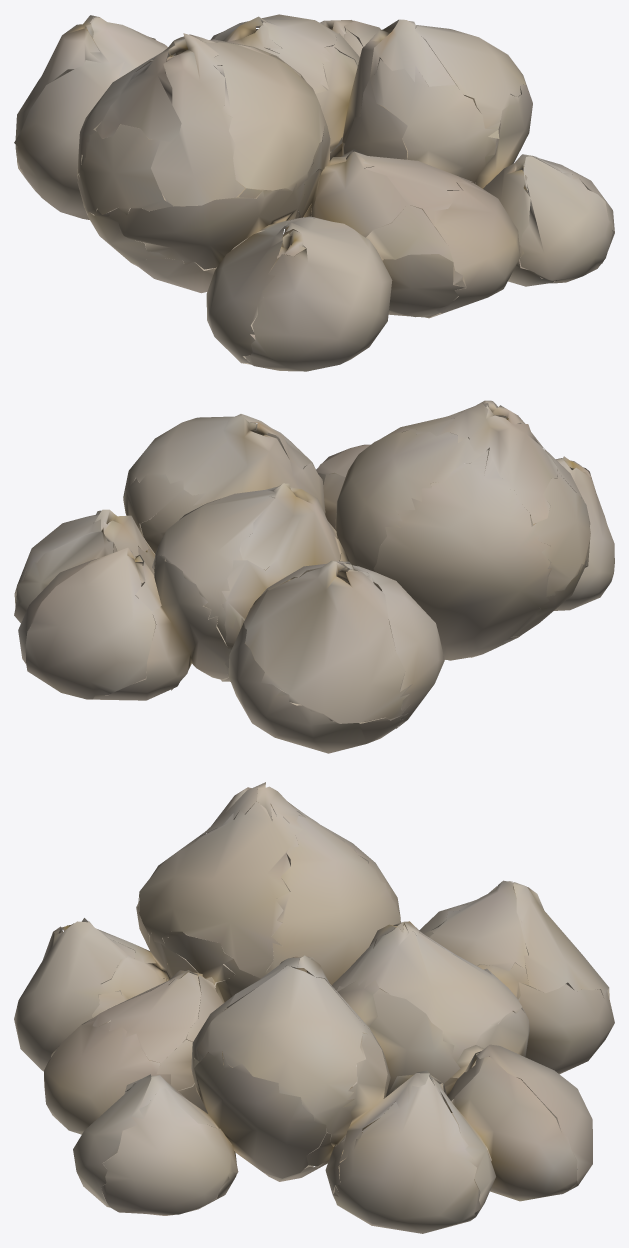
Rendered from triassic-brachiopod-cluster.glb.
3 views of the same model, one above another, from view 1: azimuth 30°, elevation 25°; view 2: azimuth 150°, elevation 25°; view 3: azimuth 270°, elevation 25° (orthographic). The views are drawn at different scales.
Parts seen in each view (by area): view 1: brachiopod-cluster; view 2: brachiopod-cluster; view 3: brachiopod-cluster.
Part boxes in pixels (x1=…): brachiopod-cluster: x1=14, y1=14, x2=614, y2=371; brachiopod-cluster: x1=14, y1=400, x2=614, y2=753; brachiopod-cluster: x1=14, y1=782, x2=614, y2=1233.
Size of the model in its own units: 0.2872 by 0.1454 by 0.3.
